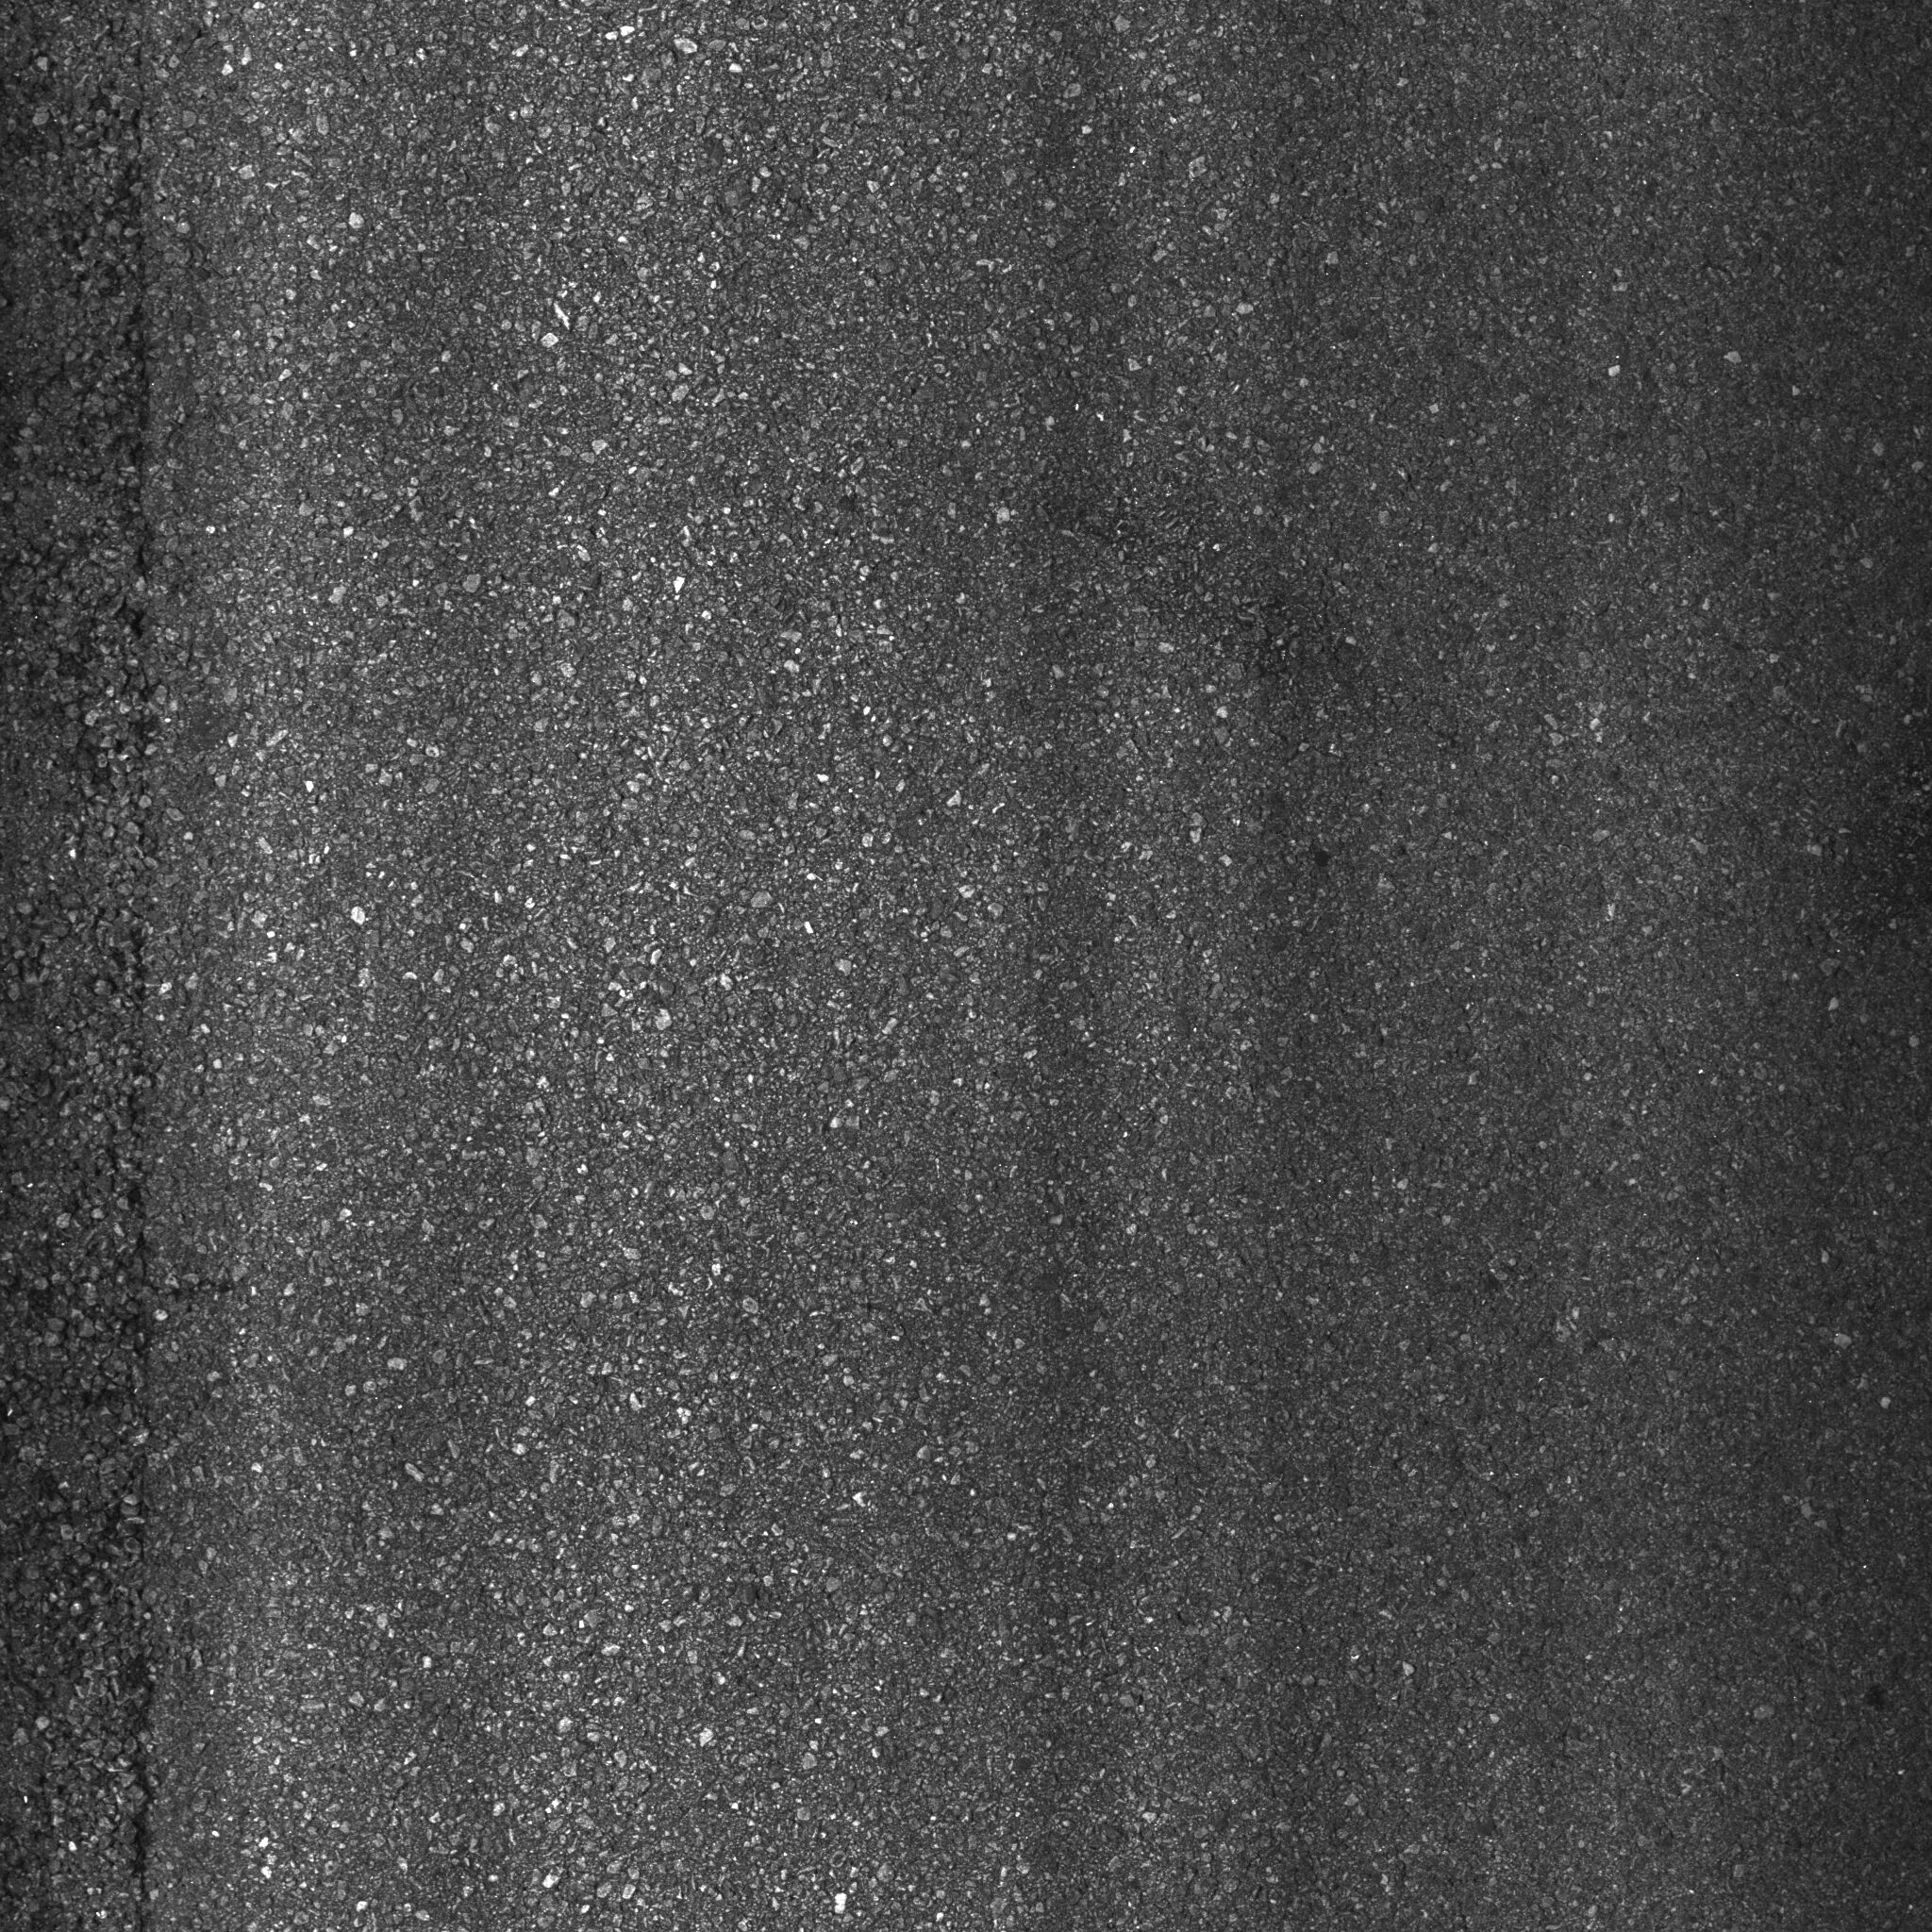longitudinal: (83, 11, 193, 1893)
